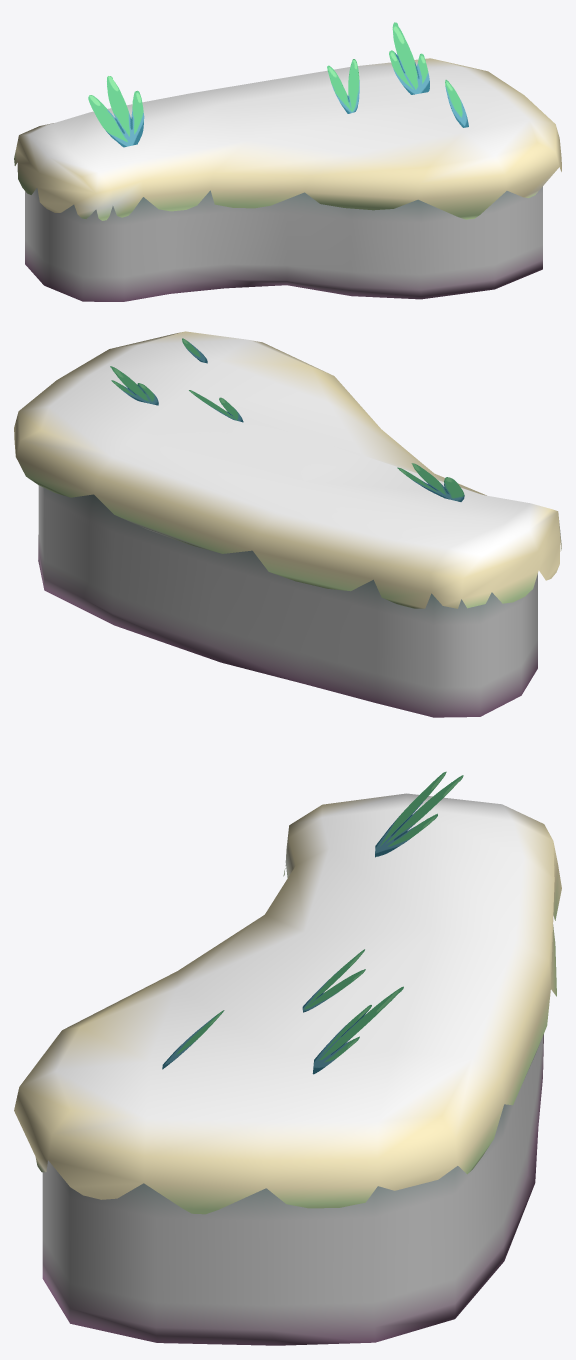
Rendered from BackgroundProps.fbx.
3 views of the same model, one above another, from view 1: azimuth 30°, elevation 25°; view 2: azimuth 150°, elevation 25°; view 3: azimuth 270°, elevation 25° (orthographic). The views are drawn at different scales.
Visible parts, largest first — view 1: GrassLid, Rock-Base-col, GrassBlade1.001, GrassBlade1, GrassBlade1.002, GrassBlade1.003; view 2: GrassLid, Rock-Base-col, GrassBlade1.001, GrassBlade1; view 3: GrassLid, Rock-Base-col, GrassBlade1.001, GrassBlade1, GrassBlade1.002.
Boxes of the visible parts, bbox=[...] form: GrassLid: bbox=[14, 58, 561, 220]; Rock-Base-col: bbox=[25, 186, 542, 301]; GrassBlade1.001: bbox=[88, 76, 144, 147]; GrassBlade1: bbox=[389, 22, 429, 94]; GrassBlade1.002: bbox=[327, 59, 359, 113]; GrassBlade1.003: bbox=[445, 79, 468, 127]; GrassLid: bbox=[14, 331, 561, 608]; Rock-Base-col: bbox=[38, 485, 537, 717]; GrassBlade1.001: bbox=[397, 463, 464, 501]; GrassBlade1: bbox=[110, 366, 158, 405]; GrassLid: bbox=[14, 793, 561, 1214]; Rock-Base-col: bbox=[42, 1034, 543, 1345]; GrassBlade1.001: bbox=[375, 771, 463, 857]; GrassBlade1: bbox=[312, 986, 403, 1074]; GrassBlade1.002: bbox=[302, 949, 365, 1012].
Size of the model in its own units: 795 by 310 by 513.
